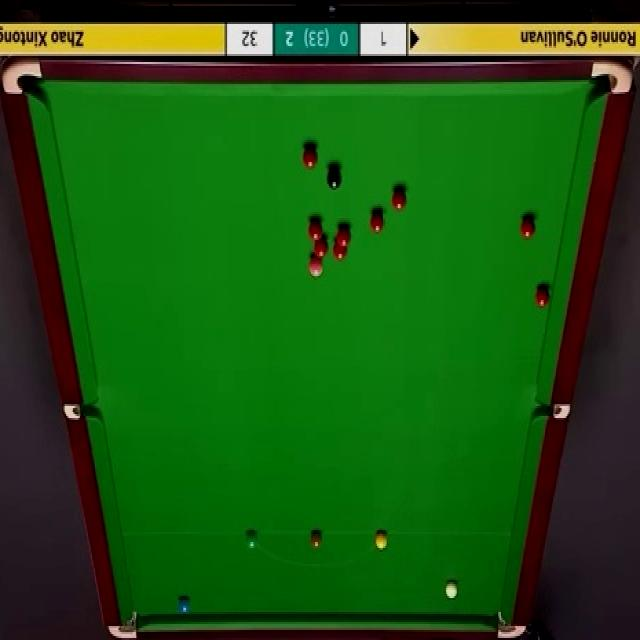black-ball: (325, 163, 342, 192)
blue-ball: (176, 593, 192, 618)
brown-ball: (309, 529, 323, 549)
green-ball: (244, 528, 258, 550)
pink-ball: (308, 255, 326, 279)
red-ball: (520, 213, 536, 241), (300, 144, 318, 168), (336, 224, 352, 247), (370, 209, 384, 235), (536, 285, 551, 309), (332, 240, 349, 261), (392, 188, 406, 212), (308, 220, 323, 242), (313, 238, 329, 258)
white-ball: (444, 578, 461, 602)
yellow-ball: (374, 530, 388, 550)
